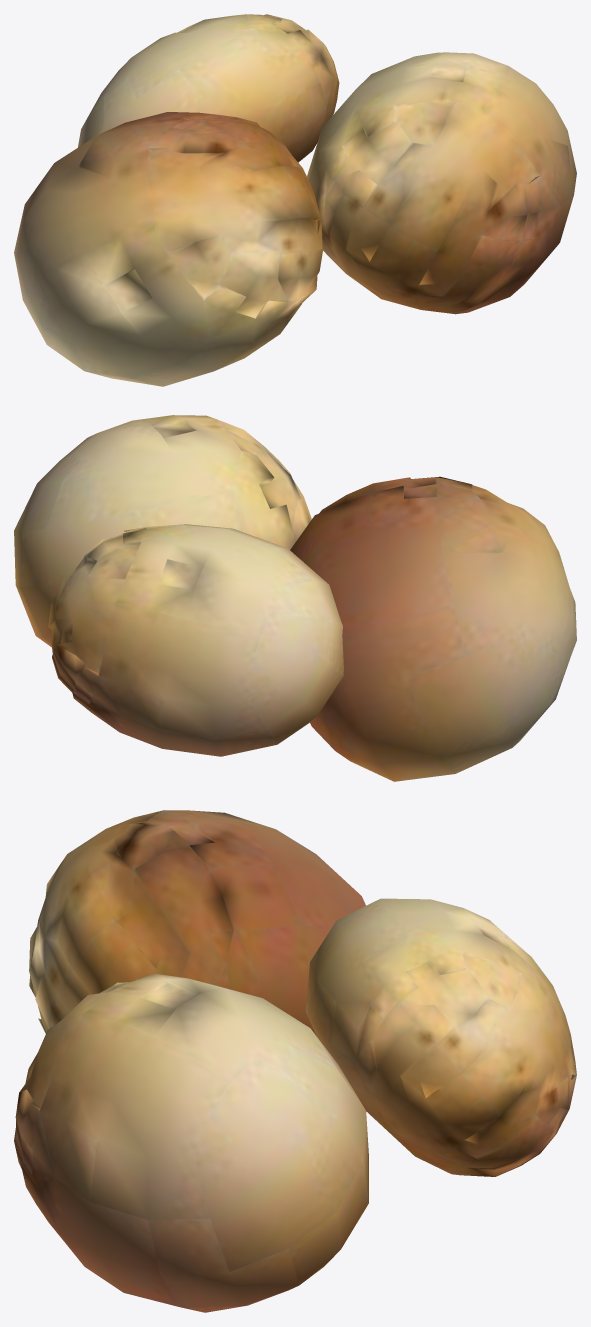
File: potatoes.glb
The picture shows the model from 3 angles, top to bottom: view 1: azimuth 30°, elevation 25°; view 2: azimuth 150°, elevation 25°; view 3: azimuth 270°, elevation 25°; orthographic projection. The views are drawn at different scales.
Parts seen in each view (by area): view 1: Potatoes; view 2: Potatoes; view 3: Potatoes.
Boxes of the visible parts, x1,y1,x2,y2 form: Potatoes: [14, 14, 576, 386]; Potatoes: [14, 415, 576, 781]; Potatoes: [14, 810, 576, 1312].
Size of the model in its own units: 1.99 by 0.9506 by 1.48.
3 materials, 3 textured.
